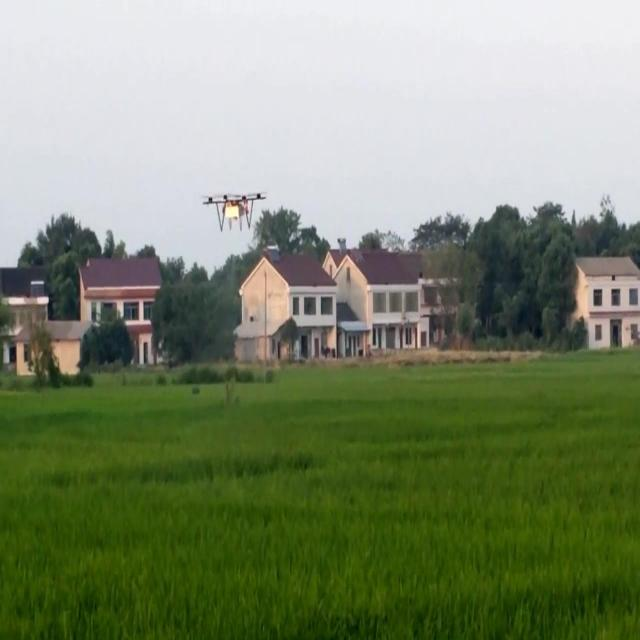UAV: (201, 192, 267, 233)
